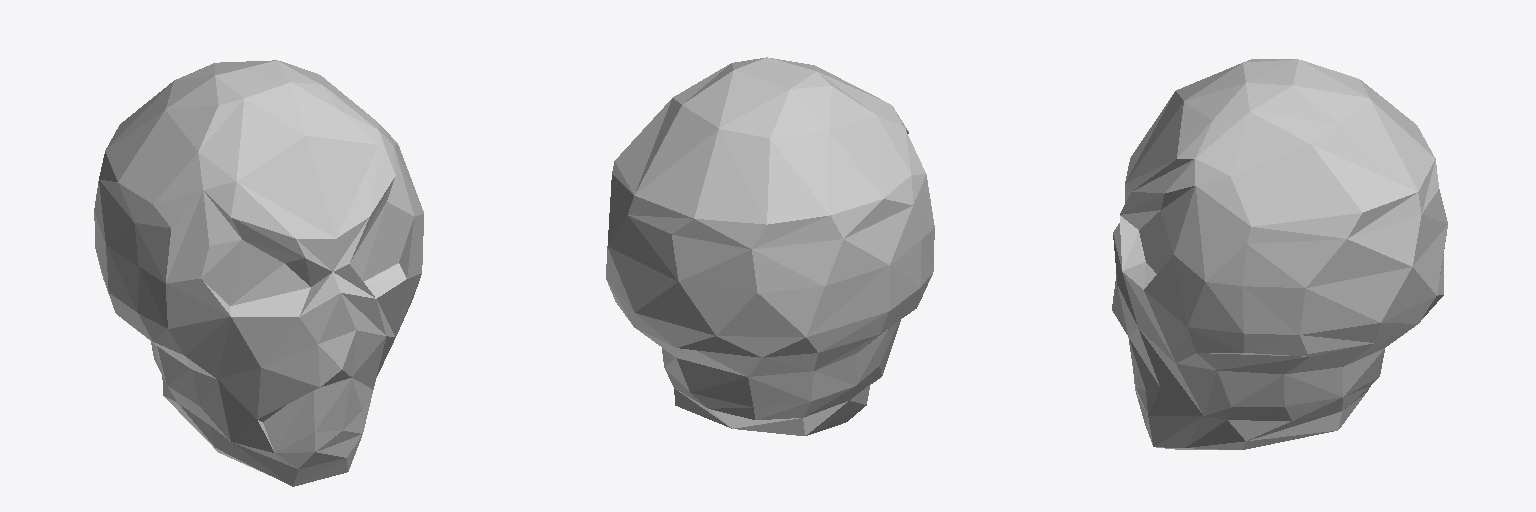
3 views of the same model, side by side, from view 1: azimuth 30°, elevation 25°; view 2: azimuth 150°, elevation 25°; view 3: azimuth 270°, elevation 25° (orthographic).
Parts seen in each view (by area): view 1: ai_model; view 2: ai_model; view 3: ai_model.
Boxes of the visible parts, x1=… form: ai_model: x1=94, y1=60, x2=423, y2=486; ai_model: x1=606, y1=57, x2=934, y2=435; ai_model: x1=1112, y1=59, x2=1447, y2=449.
Bounding box in the file's own units: 0.6689 × 0.8655 × 0.7172.